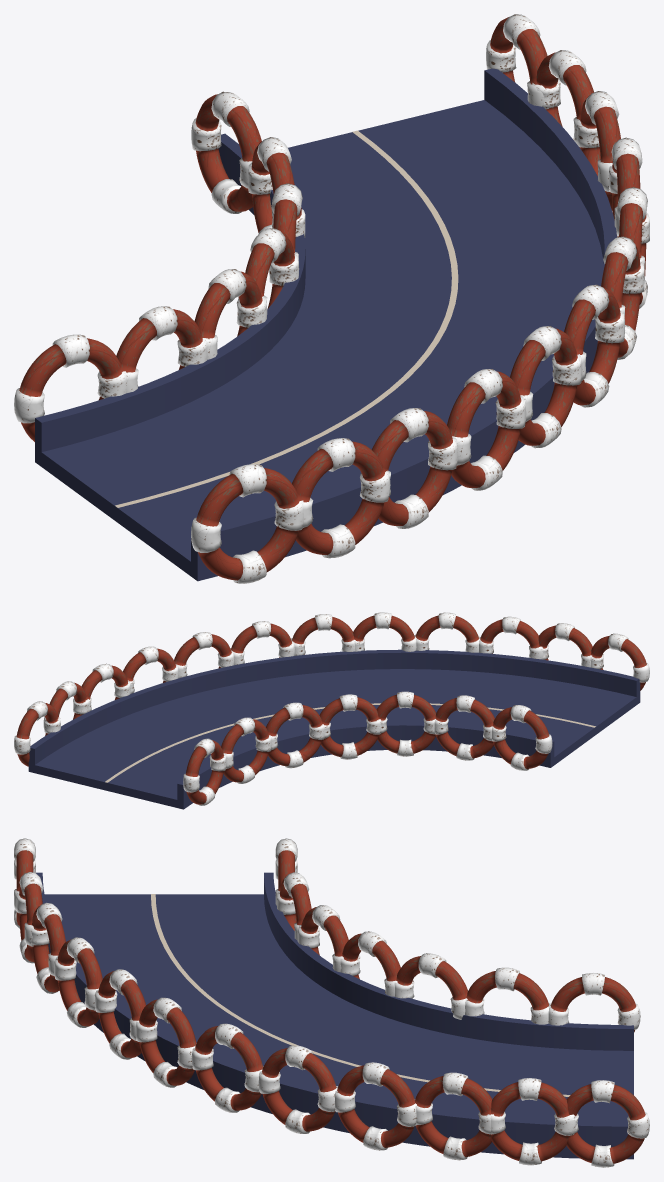
File: ModularTrackCurveLarge (1).fbx
3 views of the same model, one above another, from view 1: azimuth 30°, elevation 25°; view 2: azimuth 150°, elevation 25°; view 3: azimuth 270°, elevation 25° (orthographic). The views are drawn at different scales.
Parts seen in each view (by area): view 1: ModularTrackCurveLarge__1_, LifeSaver__8_, LifeSaver__9_, LifeSaver__11_, LifeSaver__10_, LifeSaver__12_, LifeSaver__6_, LifeSaver__13_, LifeSaver, LifeSaver__1_, LifeSaver__2_, LaneDivider (+9 smaller); view 2: ModularTrackCurveLarge__1_, LifeSaver, LifeSaver__1_, LifeSaver__3_, LifeSaver__2_, LifeSaver__4_, LifeSaver__5_, LifeSaver__6_, LifeSaver__7_, LifeSaver__8_, LifeSaver__11_, LifeSaver__14_ (+9 smaller); view 3: ModularTrackCurveLarge__1_, LifeSaver__16_, LifeSaver__18_, LifeSaver__15_, LifeSaver__17_, LifeSaver__7_, LifeSaver__14_, LifeSaver__13_, LifeSaver__11_, LifeSaver__12_, LifeSaver__6_, LifeSaver__5_ (+9 smaller).
Boxes of the visible parts, x1,y1,x2,y2 form: ModularTrackCurveLarge__1_: (35, 68, 616, 581); LifeSaver__8_: (191, 464, 303, 583); LifeSaver__9_: (292, 438, 390, 558); LifeSaver__11_: (447, 369, 526, 490); LifeSaver__10_: (372, 408, 457, 528); LifeSaver__12_: (510, 326, 582, 448); LifeSaver__6_: (191, 91, 261, 213); LifeSaver__13_: (564, 284, 625, 407); LifeSaver: (14, 334, 126, 441); LifeSaver__1_: (116, 306, 207, 393); LifeSaver__2_: (194, 269, 267, 359); LaneDivider: (115, 130, 458, 507); ModularTrackCurveLarge__1_: (28, 649, 640, 809); LifeSaver: (491, 705, 552, 770); LifeSaver__1_: (434, 695, 494, 760); LifeSaver__3_: (319, 694, 380, 759); LifeSaver__2_: (376, 691, 436, 756); LifeSaver__4_: (266, 702, 324, 768); LifeSaver__5_: (221, 717, 271, 783); LifeSaver__6_: (183, 738, 226, 805); LifeSaver__7_: (14, 701, 60, 766); LifeSaver__8_: (590, 633, 649, 690); LifeSaver__11_: (414, 612, 480, 652); LifeSaver__14_: (230, 621, 294, 665); ModularTrackCurveLarge__1_: (36, 872, 633, 1159); LifeSaver__16_: (335, 1062, 416, 1150); LifeSaver__18_: (487, 1078, 576, 1165); LifeSaver__15_: (258, 1045, 337, 1133); LifeSaver__17_: (414, 1072, 494, 1160); LifeSaver__7_: (565, 1080, 649, 1167); LifeSaver__14_: (191, 1023, 263, 1112); LifeSaver__13_: (136, 997, 196, 1087); LifeSaver__11_: (54, 937, 102, 1027); LifeSaver__12_: (95, 969, 145, 1059); LifeSaver__6_: (548, 973, 640, 1032); LifeSaver__5_: (465, 967, 550, 1024).
Bounding box in the file's own units: 2612 × 397 × 2645.
3 materials, 1 textured.
